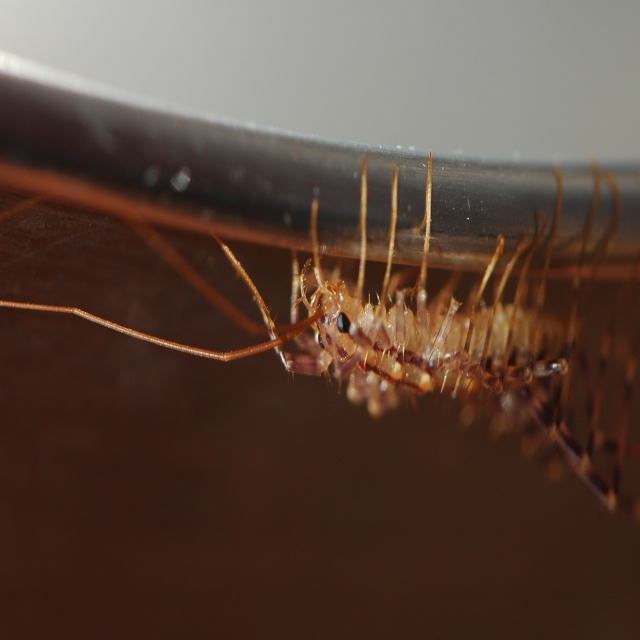Centipede: (0, 146, 640, 519)
